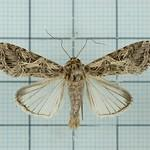Spodoptera litura: (1, 29, 150, 128)
